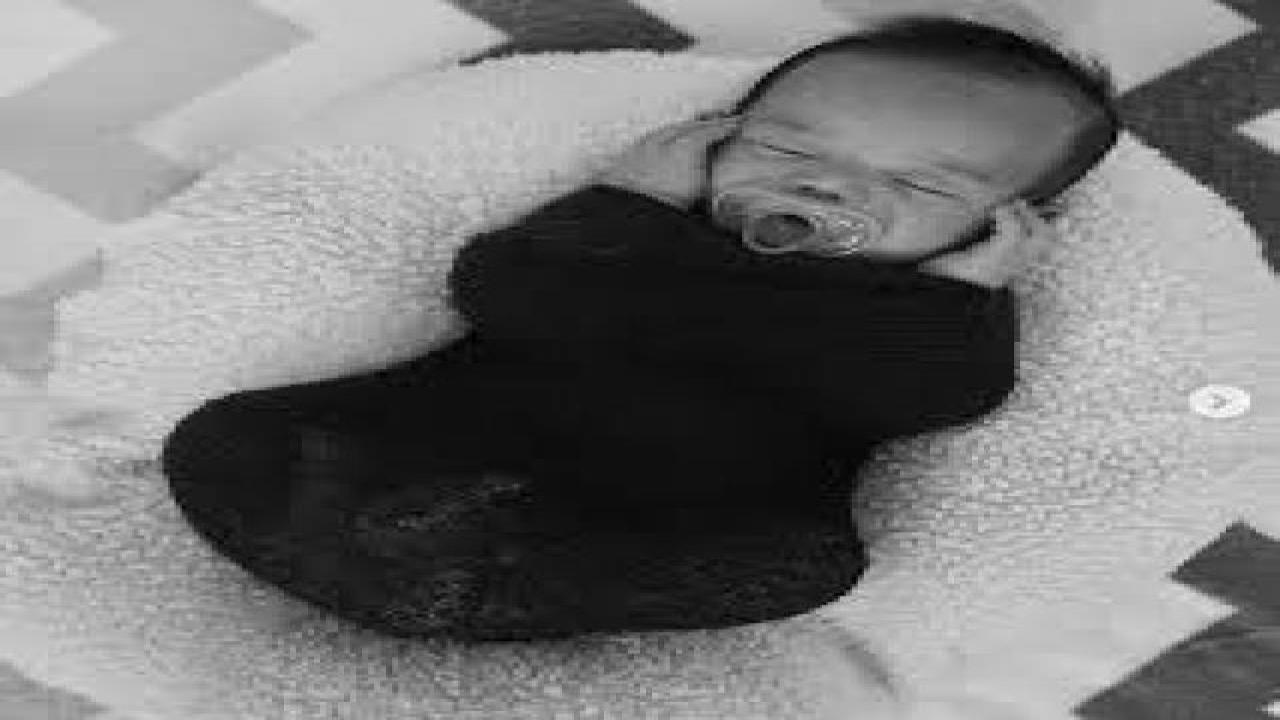hand: (606, 114, 751, 210), (914, 204, 1066, 288)
